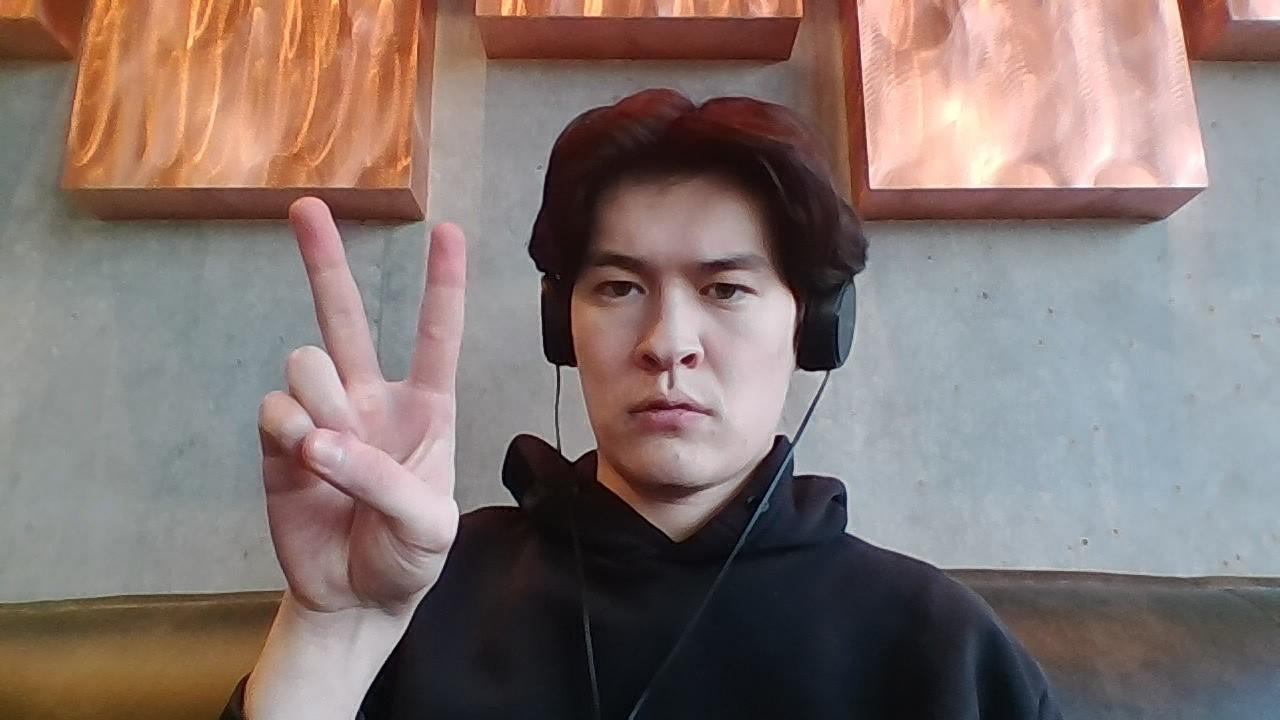peace: (258, 196, 471, 614)
